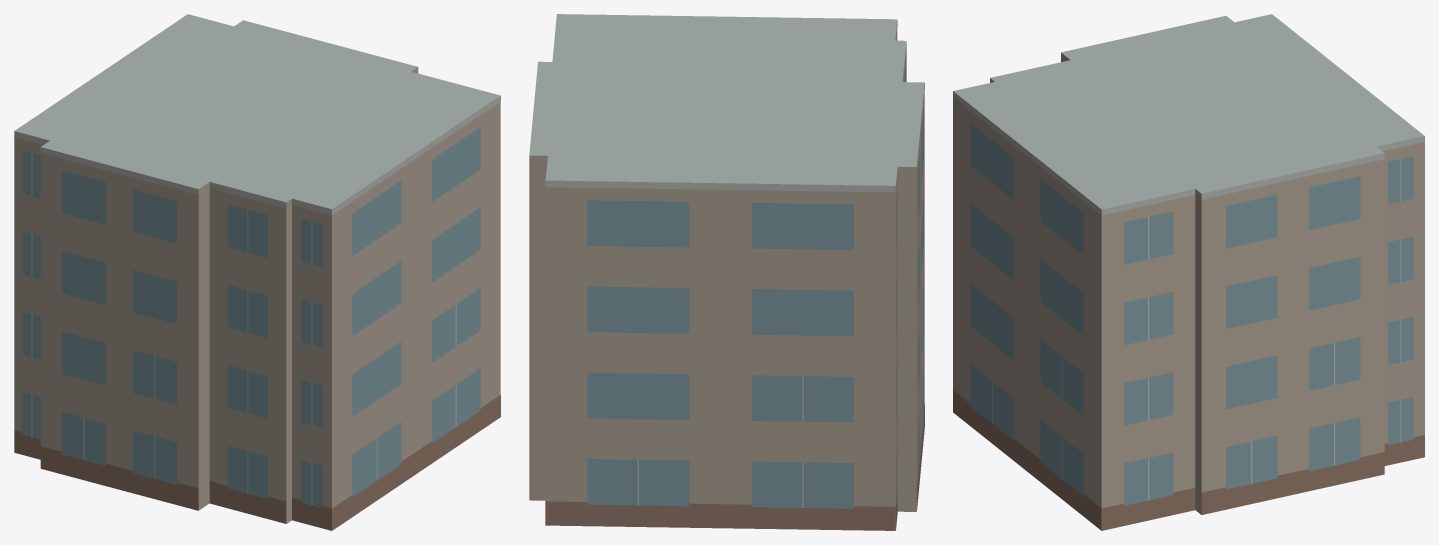
File: survey-upis-32833604.glb
The picture shows the model from 3 angles, left to right: view 1: azimuth 30°, elevation 25°; view 2: azimuth 150°, elevation 25°; view 3: azimuth 270°, elevation 25°; orthographic projection. The views are drawn at different scales.
Visible parts, largest first — view 1: survey-upis-32833604.tmp; view 2: survey-upis-32833604.tmp; view 3: survey-upis-32833604.tmp.
Boxes of the visible parts, x1,y1,x2,y2 form: survey-upis-32833604.tmp: [14, 14, 500, 530]; survey-upis-32833604.tmp: [529, 14, 924, 530]; survey-upis-32833604.tmp: [953, 14, 1424, 530].
Size of the model in its own units: 16.72 by 12.8 by 17.04.
